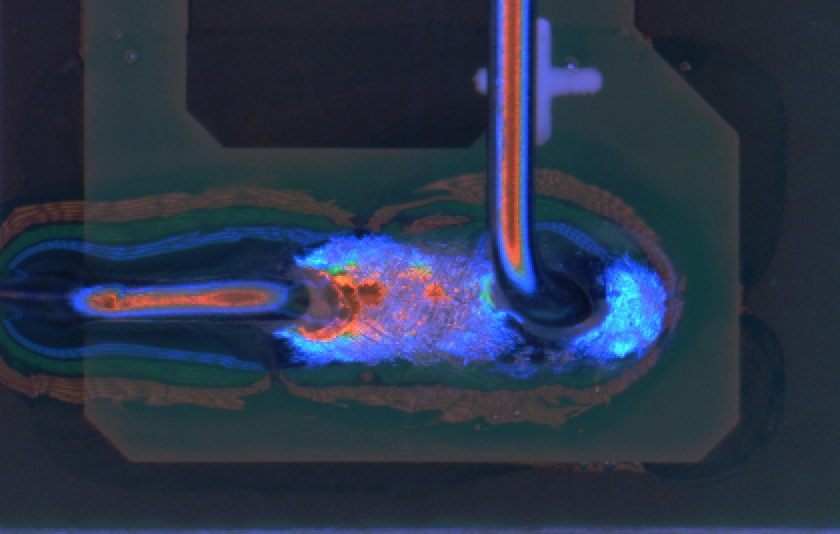offset: (236, 222, 667, 378)
spring: (4, 270, 307, 323)
spring_offset: (485, 1, 598, 329)
